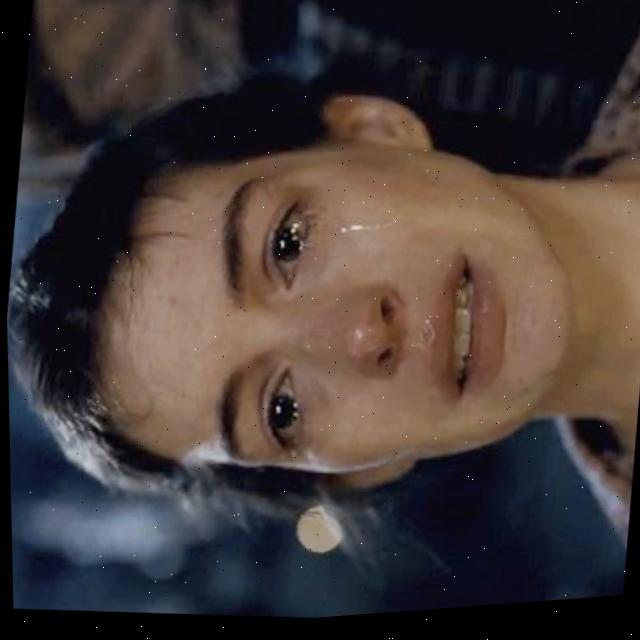surprised: (120, 116, 586, 518)
